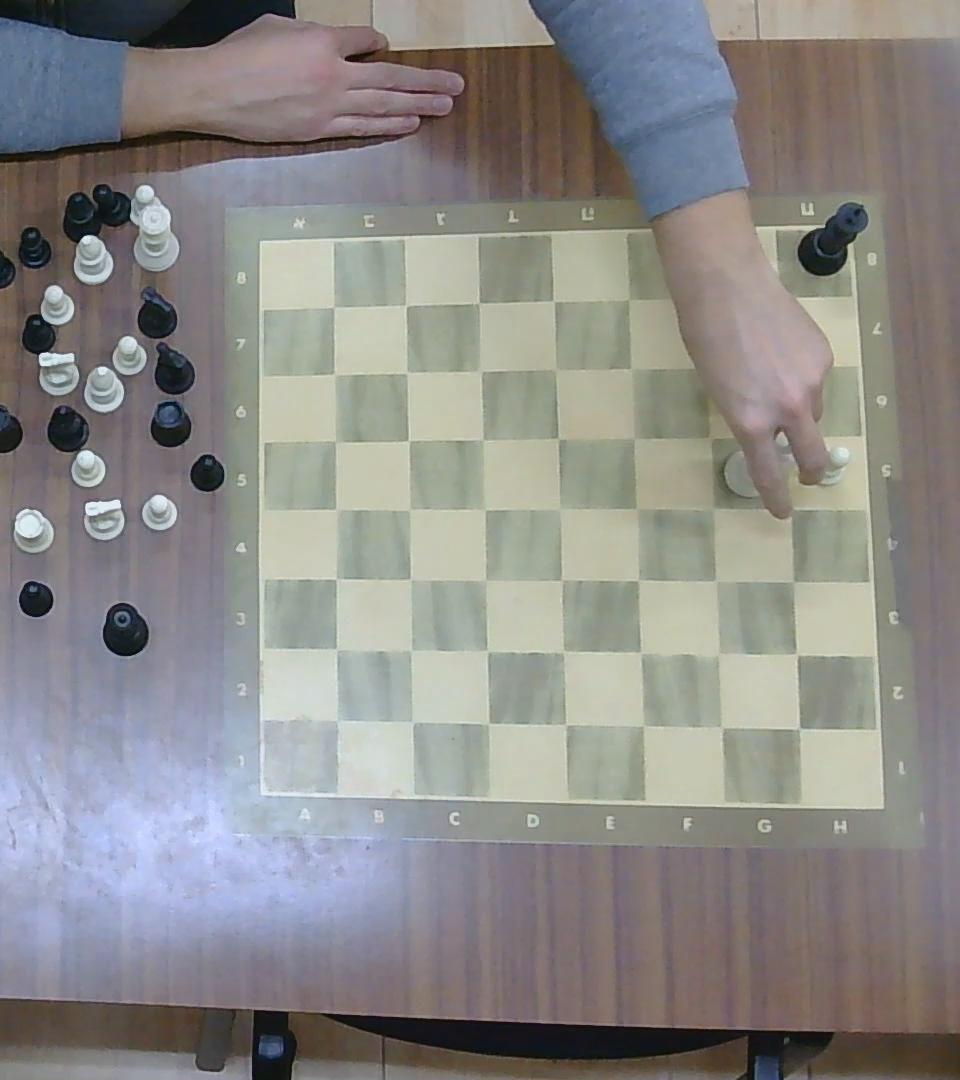xcorner: (701, 637, 734, 671), (776, 563, 808, 597), (547, 634, 578, 668), (538, 283, 569, 317), (770, 349, 801, 383), (780, 638, 812, 670), (624, 636, 655, 669), (471, 707, 502, 740), (704, 710, 735, 743), (626, 707, 657, 740), (463, 285, 494, 318), (465, 352, 495, 386), (772, 418, 802, 452), (470, 635, 501, 667), (699, 564, 730, 596), (546, 564, 577, 596), (548, 707, 578, 740), (622, 562, 652, 595), (395, 705, 425, 738), (776, 491, 806, 524), (615, 282, 645, 315), (766, 282, 796, 315), (783, 711, 813, 743), (317, 289, 347, 321), (698, 491, 728, 523), (390, 287, 420, 319), (321, 704, 351, 736), (686, 284, 716, 316), (622, 492, 652, 523), (618, 352, 648, 383), (319, 357, 349, 388), (395, 635, 424, 667), (470, 493, 499, 525), (466, 422, 495, 454), (542, 352, 571, 383), (621, 421, 650, 452), (698, 421, 727, 452), (470, 565, 499, 595), (394, 494, 423, 524), (321, 634, 350, 664), (544, 494, 573, 524), (392, 356, 421, 386), (394, 425, 423, 455), (544, 423, 573, 453), (687, 351, 716, 381), (395, 563, 423, 594), (322, 563, 350, 594), (322, 494, 350, 524), (321, 426, 349, 454)
